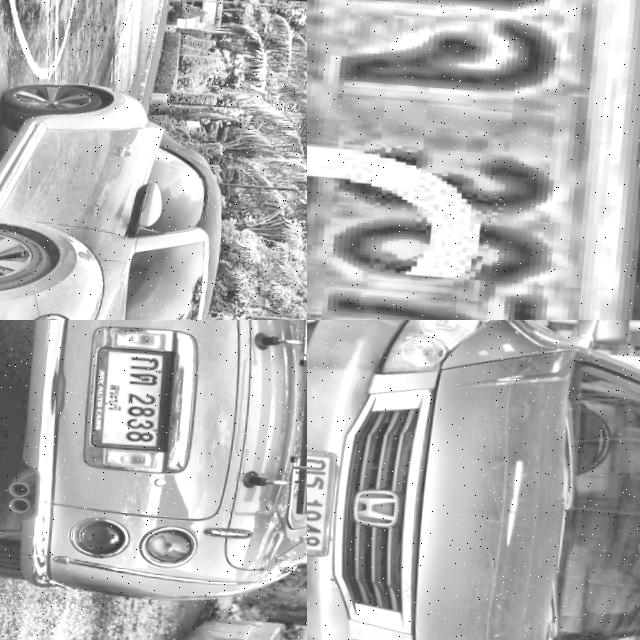license-plate: (307, 0, 640, 320), (93, 346, 178, 452), (307, 444, 344, 558)
